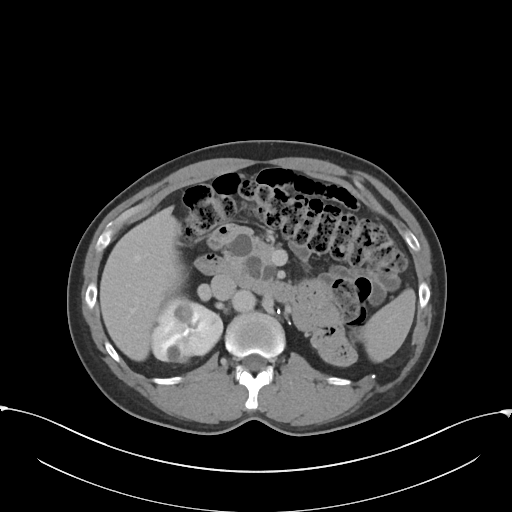Lesion: (171, 304, 194, 327)
